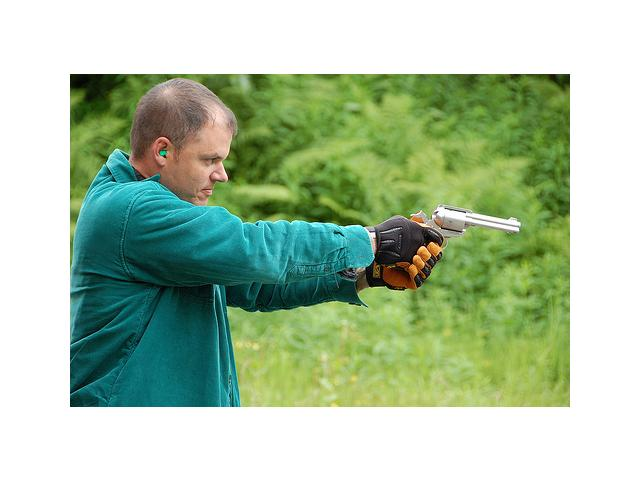pistol: (410, 202, 523, 287)
